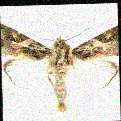Spodoptera litura: (1, 20, 119, 112)
